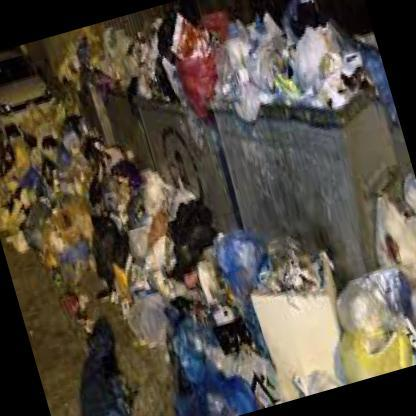Garbage: (142, 234, 289, 415), (195, 8, 363, 109), (0, 128, 105, 261), (118, 6, 222, 106), (78, 162, 168, 262), (363, 201, 415, 366), (41, 22, 126, 92)
